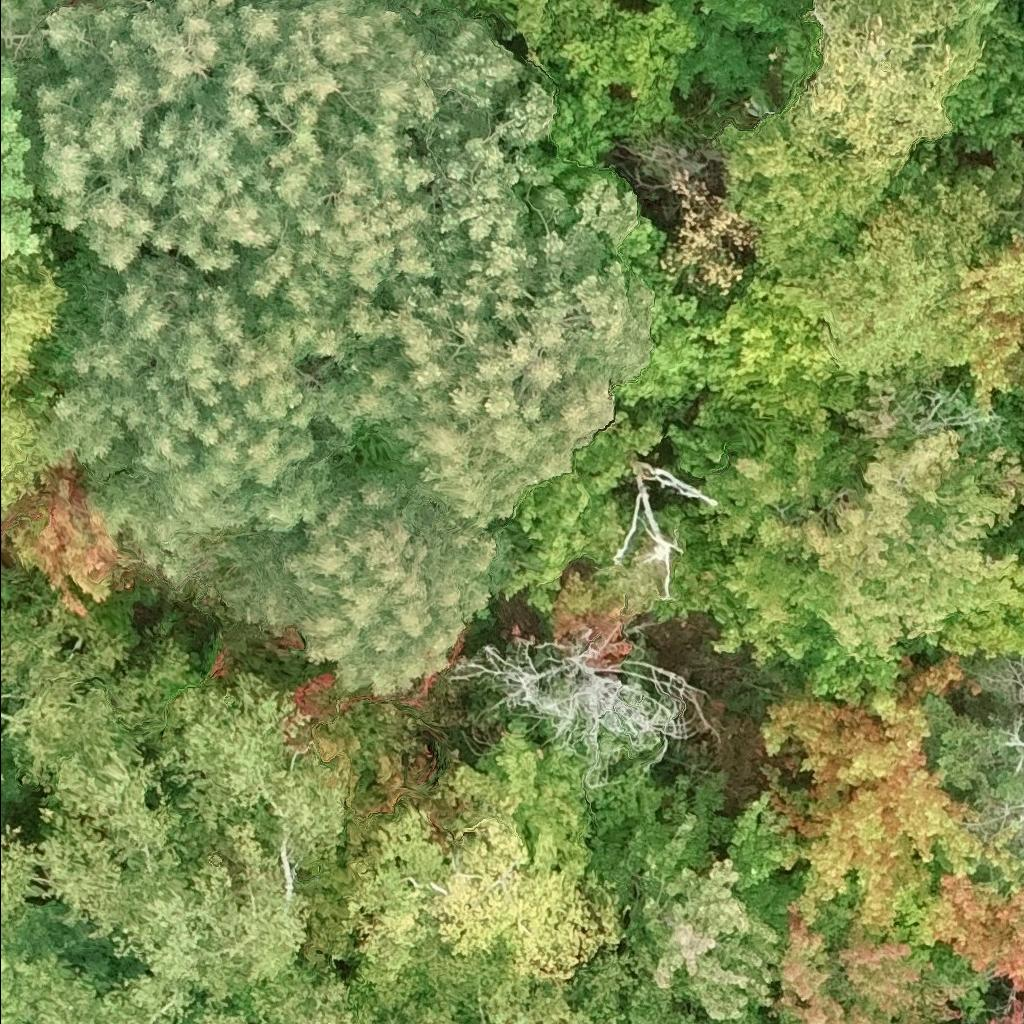crown: (44, 255, 495, 696), (314, 78, 654, 535), (0, 674, 352, 1023), (223, 0, 522, 353), (761, 378, 1023, 704), (342, 793, 702, 1023), (0, 0, 291, 276), (763, 658, 1023, 942), (770, 136, 1023, 379), (583, 753, 810, 1023), (657, 395, 876, 673), (0, 582, 192, 787), (716, 100, 919, 278), (518, 2, 706, 186), (458, 636, 705, 773), (440, 718, 614, 910), (793, 0, 960, 173), (772, 894, 980, 1023), (892, 863, 1023, 1023), (174, 940, 378, 1023), (549, 545, 673, 675), (859, 0, 999, 90), (958, 223, 1023, 410), (0, 21, 50, 261), (0, 916, 107, 1023), (617, 461, 719, 565), (940, 565, 1023, 657), (479, 0, 557, 59), (982, 672, 1023, 720), (1005, 797, 1023, 828), (1001, 729, 1023, 750), (1019, 758, 1023, 776)
